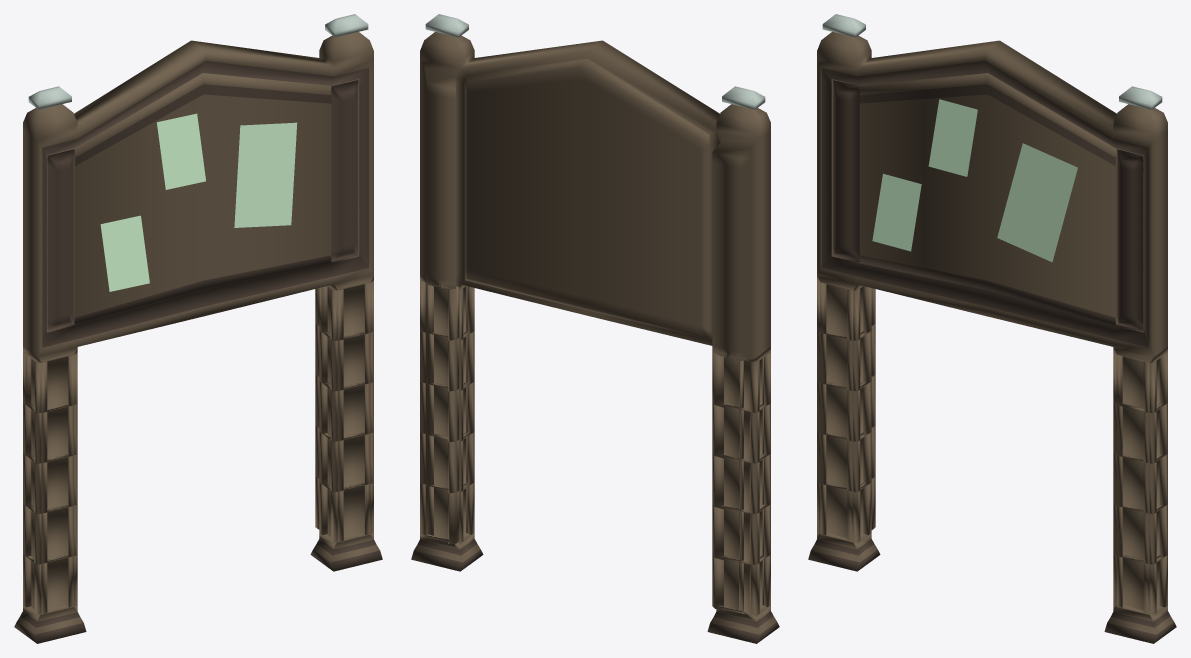
The model's file is skelbimulenta.glb.
3 renders of one model, left to right at view 1: azimuth 30°, elevation 25°; view 2: azimuth 150°, elevation 25°; view 3: azimuth 330°, elevation 25°, orthographic.
Visible parts, largest first — view 1: Cube; view 2: Cube; view 3: Cube.
Part boxes in pixels (left/top/right/bottom): Cube: left=14, top=14, right=382, bottom=643; Cube: left=411, top=14, right=779, bottom=643; Cube: left=808, top=14, right=1176, bottom=643.
Bounding box in the file's own units: 1.12 × 1.7 × 0.1672.
